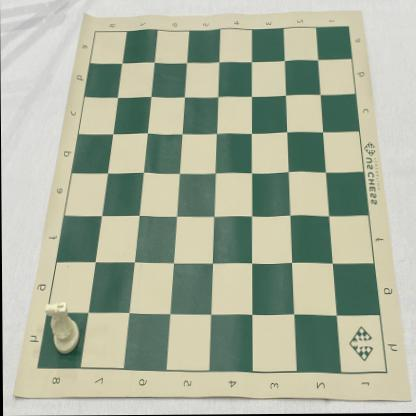white-knight: (44, 301, 79, 355)
